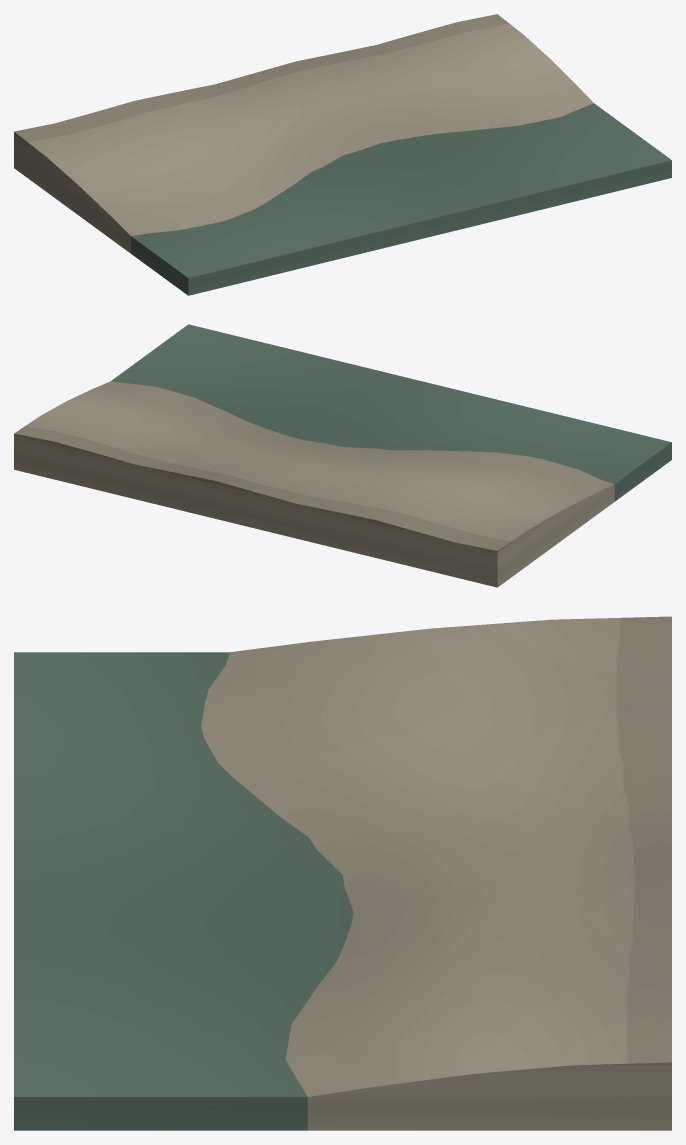
3 renders of one model, top to bottom at view 1: azimuth 30°, elevation 25°; view 2: azimuth 150°, elevation 25°; view 3: azimuth 270°, elevation 25°, orthographic. The views are drawn at different scales.
Visible parts, largest first — view 1: gustavia; view 2: gustavia; view 3: gustavia.
Boxes of the visible parts, <box> form: gustavia: <box>14,14,671,295</box>; gustavia: <box>14,324,671,587</box>; gustavia: <box>14,616,671,1130</box>.
Bounding box in the file's own units: 6 × 0.4501 × 3.75.
1 material, 1 textured.
